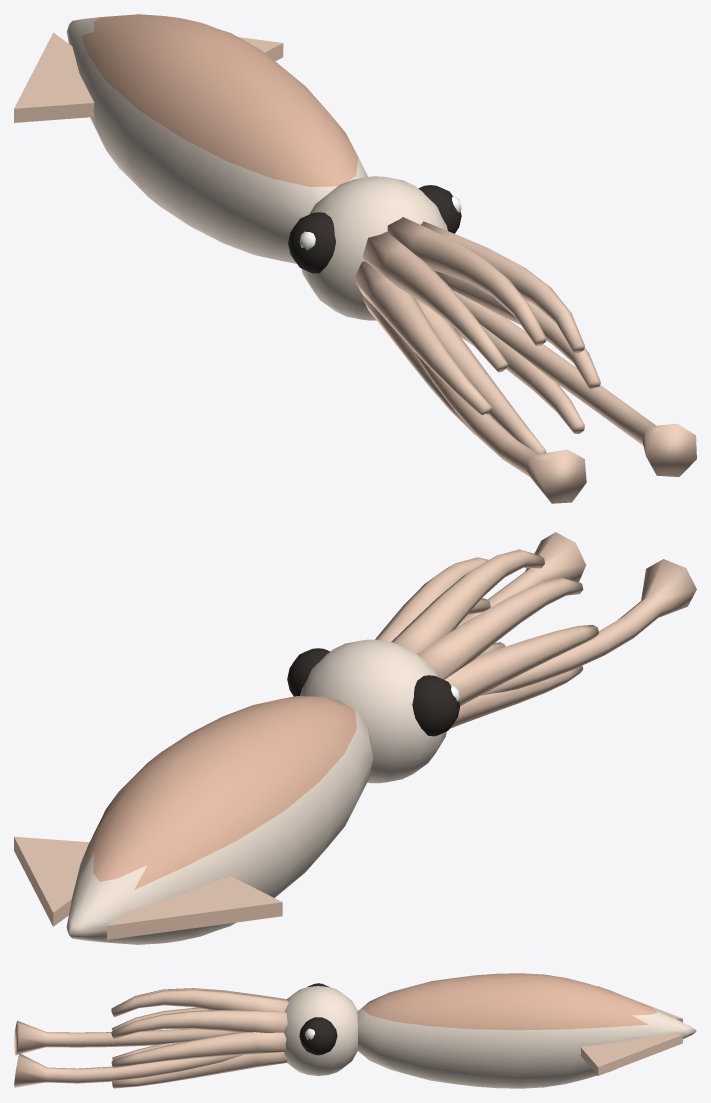
Rendered from fish-squid.glb.
The picture shows the model from 3 angles, top to bottom: view 1: azimuth 30°, elevation 25°; view 2: azimuth 150°, elevation 25°; view 3: azimuth 270°, elevation 25°; orthographic projection. The views are drawn at different scales.
Parts seen in each view (by area): view 1: squid; view 2: squid; view 3: squid.
Boxes of the visible parts, left/top/right/bottom form: squid: left=14, top=14, right=696, bottom=503; squid: left=14, top=532, right=696, bottom=944; squid: left=14, top=973, right=696, bottom=1088.
Bounding box in the file's own units: 0.12 × 0.0745 × 0.4258.
